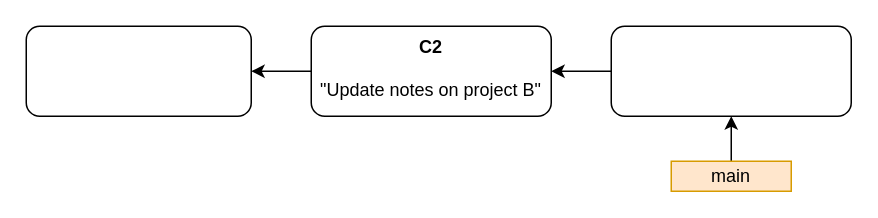
The diagram is 878 pixels wide and 218 high, and some of its shapes have lost their labels. The shapes that lost their labels are listed below. From the top down, each one's centre as x and y in pixels, then its label:
[138,70]: C1 "Add notes on project A"
[730,70]: C3 "Remove meeting notes"
